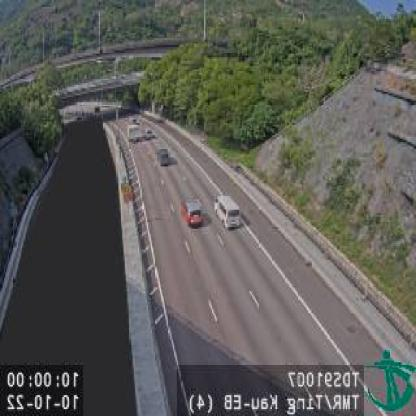Car: (215, 194, 242, 230), (183, 198, 205, 228), (158, 148, 172, 164)
